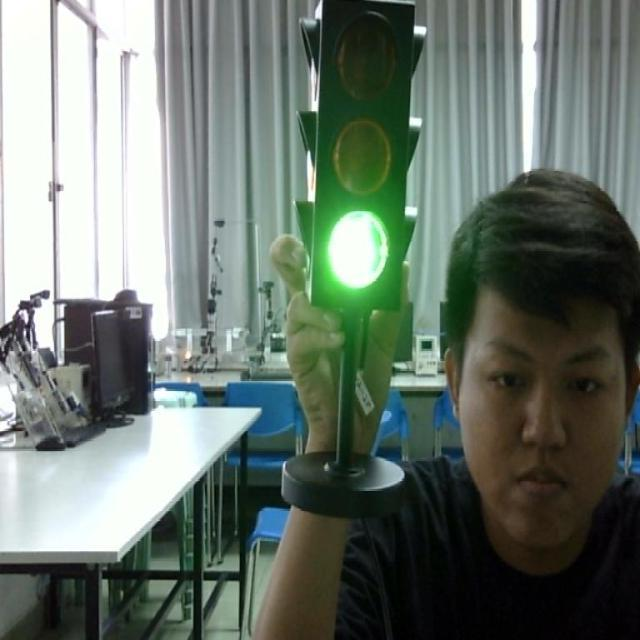green_light: (299, 0, 422, 307)
